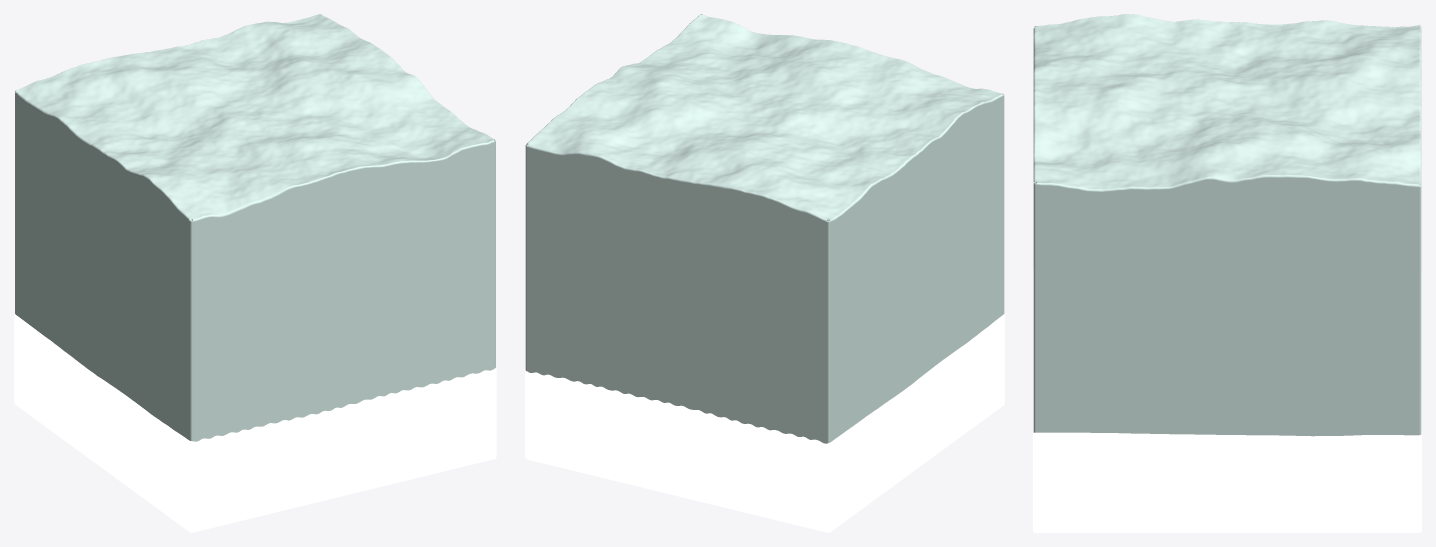
The model's file is jelly-sea.glb.
The picture shows the model from 3 angles, left to right: view 1: azimuth 30°, elevation 25°; view 2: azimuth 150°, elevation 25°; view 3: azimuth 270°, elevation 25°; orthographic projection. The views are drawn at different scales.
Visible parts, largest first — view 1: JellySea, Sand; view 2: JellySea, Sand; view 3: JellySea, Sand.
Boxes of the visible parts, box(x1,y1,x2,y2) form: JellySea: box(15, 14, 495, 441); Sand: box(14, 314, 496, 532); JellySea: box(525, 14, 1004, 443); Sand: box(525, 314, 1004, 532); JellySea: box(1033, 14, 1421, 436); Sand: box(1033, 269, 1421, 532).
Bounding box in the file's own units: 3 × 3.08 × 3.
